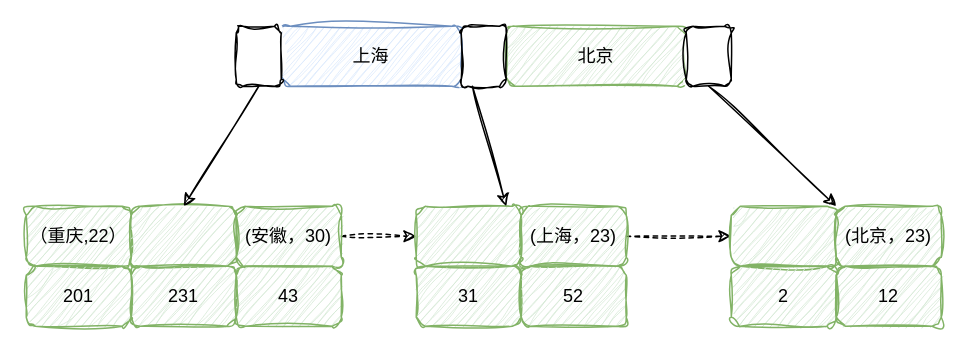
The diagram is 968 pixels wide and 353 high, and some of its shapes have lost their labels. The centre of each missing label's shape, as x and y in pixels:
"(上海，20)" belongs at point 468,235.
"(北京，20)" belongs at point 783,235.
"(重庆，23)" belongs at point 183,235.
